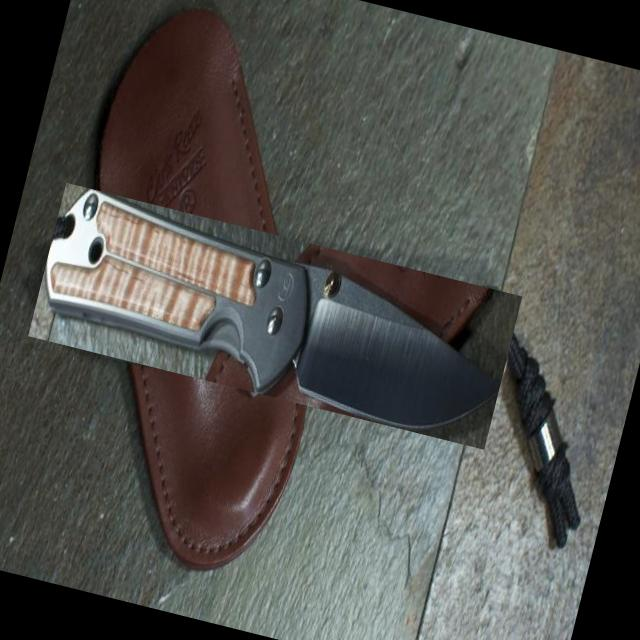Knife: (46, 190, 499, 429)
